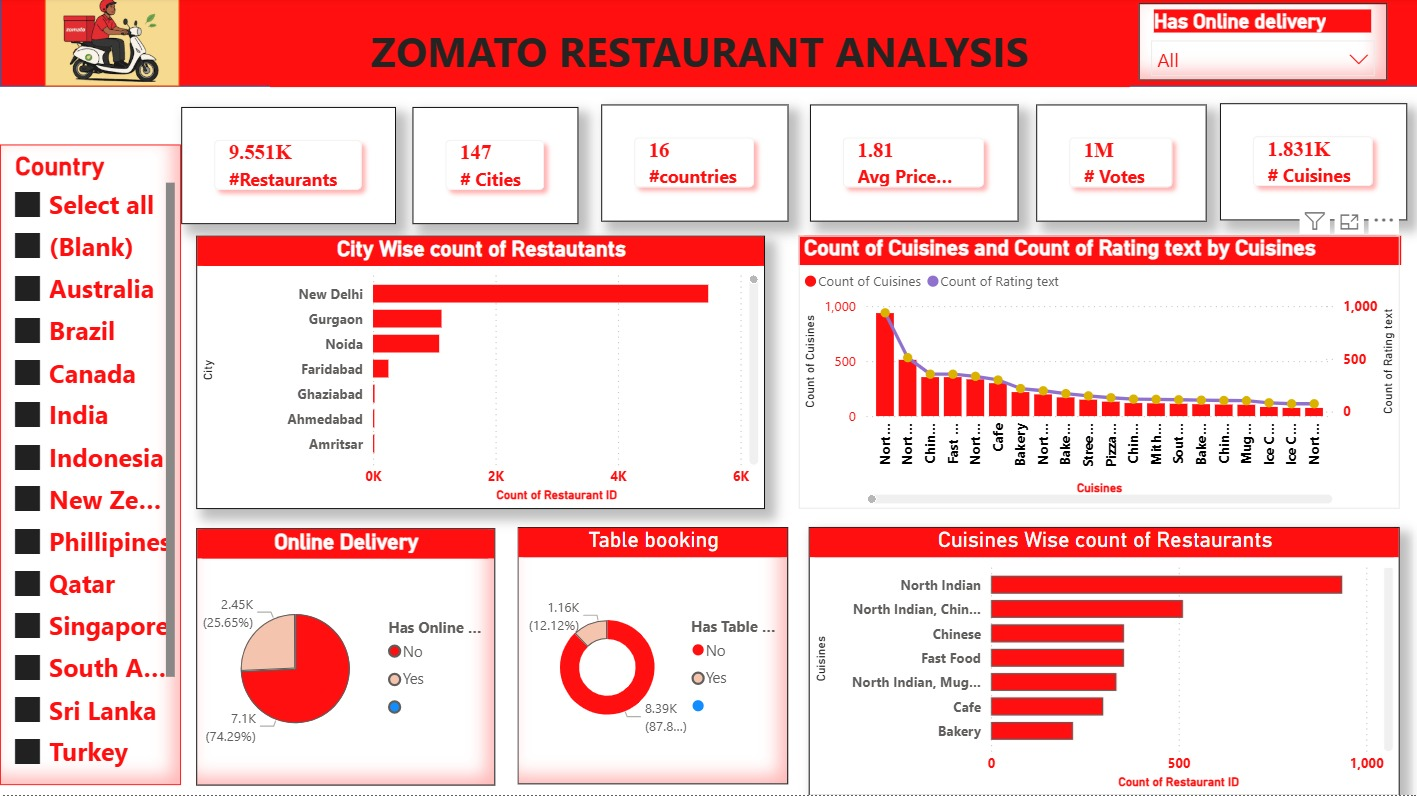

Layout of this report page (visuals, bound fields, positions):
{"tool":"powerbi","page":{"name":"Page 1","canvas":[1280,720],"ordinal":0},"visuals":[{"type":"shape","box":[0,0,1280.3,81],"z":0},{"type":"image","box":[26.1,0,150.9,81],"z":1000},{"type":"textbox","box":[243.7,18.5,795.4,62.7],"z":2000},{"type":"cardVisual","fields":{"Data":["CountNonNull(Zomato.Restaurant ID)"]},"box":[163.3,98.8,193.5,105.7],"z":3000},{"type":"cardVisual","fields":{"Data":["Count(Zomato.City)"]},"box":[371.9,98.8,149.6,105.7],"z":4000},{"type":"cardVisual","fields":{"Data":["Count(Zomato.Country Code)"]},"box":[542,97.4,168.8,105.7],"z":5000},{"type":"cardVisual","fields":{"Data":["Avg(Zomato.Price range)"]},"box":[730,97.4,188,105.7],"z":6000},{"type":"cardVisual","fields":{"Data":["Sum(Zomato.Votes)"]},"box":[934.5,97.4,153.7,105.7],"z":7000},{"type":"cardVisual","fields":{"Data":["Count(Zomato.Cuisines)"]},"box":[1100.5,96.1,168.8,105.7],"z":8000},{"type":"slicer","fields":{"Values":["Sheet1.Country"]},"box":[0,133.1,163.3,577.7],"z":9000},{"type":"lineStackedColumnComboChart","fields":{"Category":["Zomato.Cuisines"],"Y":["CountNonNull(Zomato.Cuisines)"],"Y2":["CountNonNull(Zomato.Rating text)"]},"box":[719.8,215.2,543.1,246.6],"z":10000},{"type":"clusteredBarChart","title":"City Wise count of Restautants","fields":{"Category":["Zomato.City"],"Y":["Count(Zomato.Restaurant ID)"]},"box":[176.7,215.2,513.1,246.6],"z":11000},{"type":"clusteredBarChart","title":"Cuisines Wise count of Restaurants","fields":{"Category":["Zomato.Cuisines"],"Y":["CountNonNull(Zomato.Restaurant ID)"]},"box":[729.8,477.5,533.1,242.3],"z":12000},{"type":"pieChart","title":"Online Delivery","fields":{"Category":["Zomato.Has Online delivery"],"Y":["CountNonNull(Zomato.Restaurant ID)"]},"box":[176.7,478.9,269.4,232.3],"z":13000},{"type":"donutChart","title":" Table booking","fields":{"Category":["Zomato.Has Table booking"],"Y":["CountNonNull(Zomato.Restaurant ID)"]},"box":[466.1,477.5,243.7,232.3],"z":14000},{"type":"slicer","fields":{"Values":["Zomato.Has Online delivery"]},"box":[1026.3,5.7,223.8,69.8],"z":15000}]}

Visuals, with their boxes in screenshot pixels (x1, y1, x2, y2), scaled from the page's 1280x720 canvas onto the 1417x796 screenshot:
shape: (0, 0, 1416, 90)
image: (29, 0, 196, 90)
textbox: (270, 20, 1150, 90)
cardVisual - CountNonNull(Zomato.Restaurant ID): (181, 109, 395, 226)
cardVisual - Count(Zomato.City): (412, 109, 577, 226)
cardVisual - Count(Zomato.Country Code): (600, 108, 787, 225)
cardVisual - Avg(Zomato.Price range): (808, 108, 1016, 225)
cardVisual - Sum(Zomato.Votes): (1035, 108, 1205, 225)
cardVisual - Count(Zomato.Cuisines): (1218, 106, 1405, 223)
slicer - Sheet1.Country: (0, 147, 181, 786)
lineStackedColumnComboChart - Zomato.Cuisines x CountNonNull(Zomato.Cuisines): (797, 238, 1398, 511)
"City Wise count of Restautants" clusteredBarChart: (196, 238, 764, 511)
"Cuisines Wise count of Restaurants" clusteredBarChart: (808, 528, 1398, 795)
"Online Delivery" pieChart: (196, 529, 494, 786)
" Table booking" donutChart: (516, 528, 786, 785)
slicer - Zomato.Has Online delivery: (1136, 6, 1384, 83)
